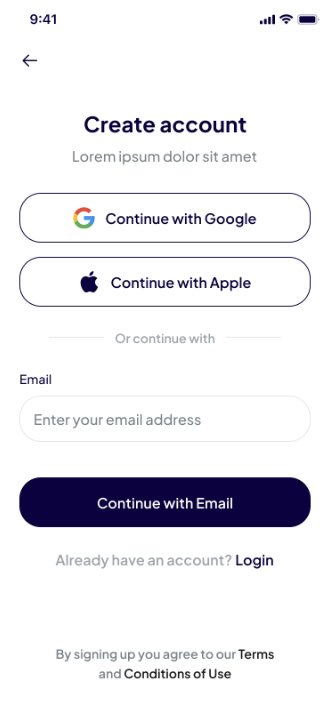Input: (18, 391, 313, 444)
